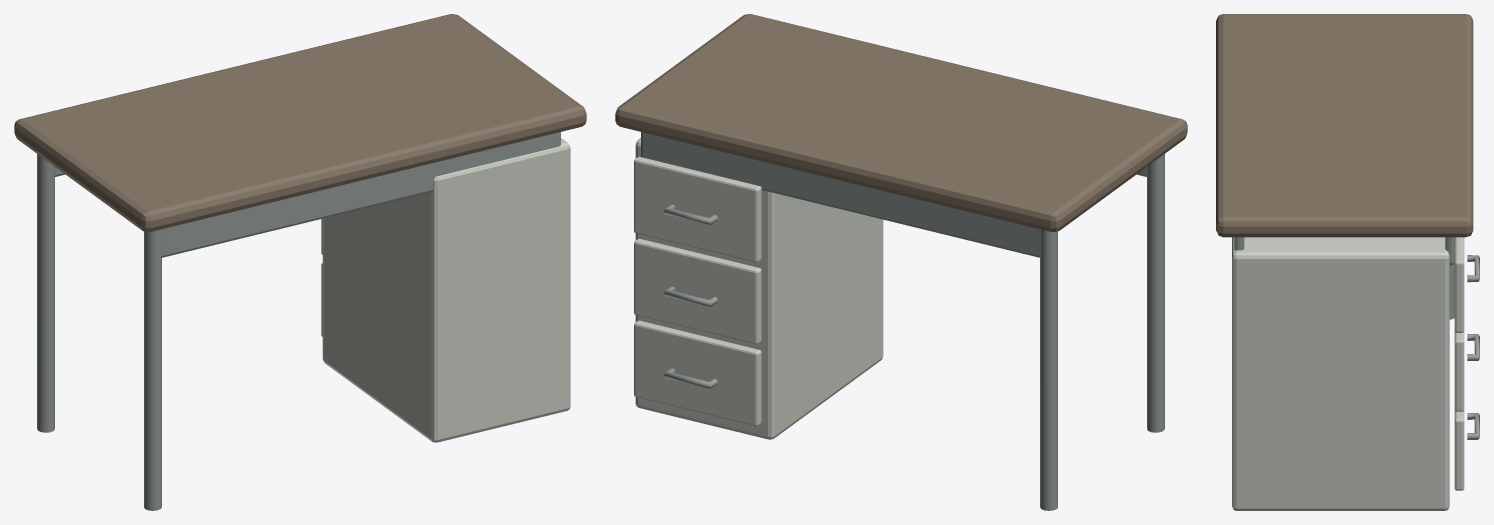
Rendered from teacher_desk.glb.
The picture shows the model from 3 angles, left to right: view 1: azimuth 30°, elevation 25°; view 2: azimuth 150°, elevation 25°; view 3: azimuth 270°, elevation 25°; orthographic projection. The views are drawn at different scales.
Parts seen in each view (by area): view 1: KitWood, KitIvory, KitSteel; view 2: KitWood, KitIvory, KitSteel; view 3: KitIvory, KitWood, KitSteel.
Boxes of the visible parts, <box> form: KitWood: <box>14,14,586,231</box>; KitIvory: <box>321,138,570,442</box>; KitSteel: <box>37,132,560,510</box>; KitWood: <box>615,14,1187,231</box>; KitIvory: <box>634,138,883,439</box>; KitSteel: <box>641,132,1164,510</box>; KitIvory: <box>1232,237,1464,510</box>; KitWood: <box>1216,14,1473,237</box>; KitSteel: <box>1234,237,1479,439</box>.
Size of the model in its own units: 1.25 by 0.8275 by 0.6664.
